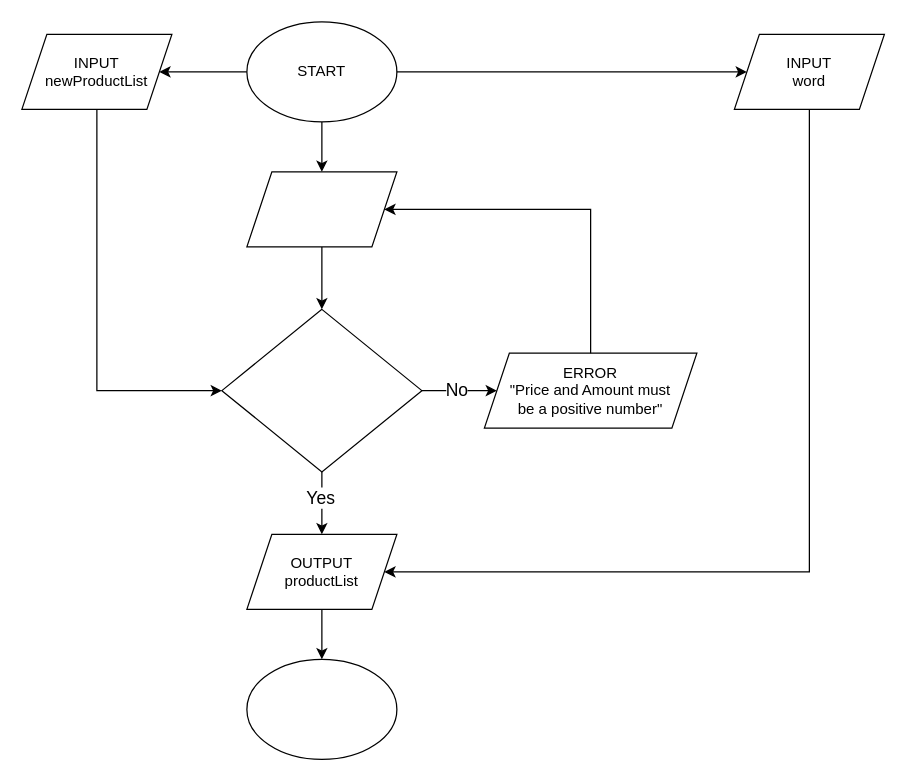
Some shapes in this 906 by 781 pixel diagram are drawn without their labels. The centre of each missing label's shape, as x and y in pixels:
Are Price and Amount > 0?: (321,390)
END: (321,708)
INPUT productList: (321,209)
